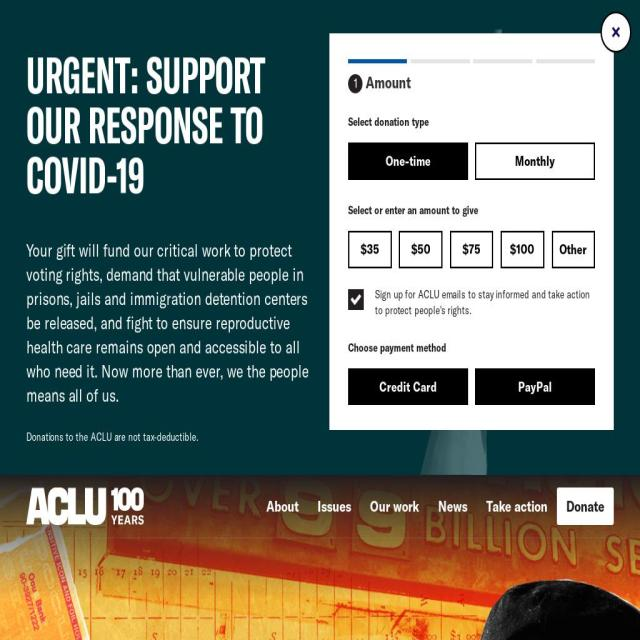button: (476, 487, 557, 525), (360, 487, 429, 525), (557, 487, 614, 525), (256, 487, 308, 525), (308, 487, 360, 525), (428, 487, 477, 525)
iframe: (329, 33, 614, 430)
image: (0, 475, 640, 640), (0, 475, 640, 600), (26, 487, 144, 525)
text: (26, 238, 311, 407), (26, 50, 311, 200), (26, 429, 311, 444)
